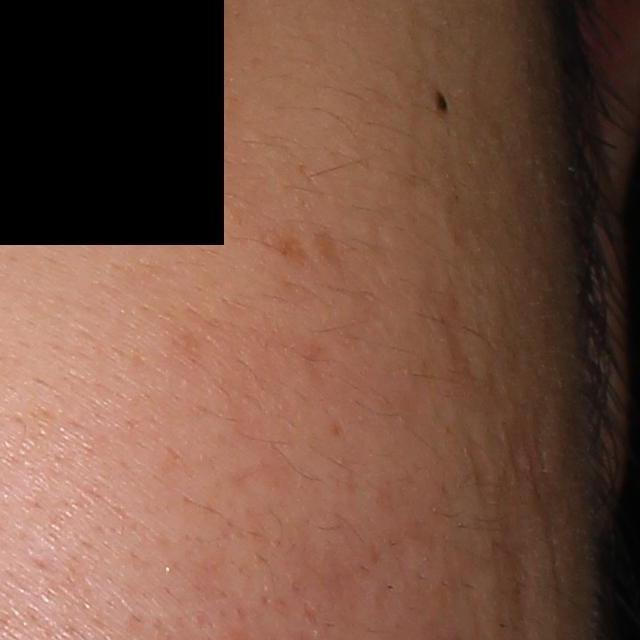nevus: (428, 82, 453, 116)
